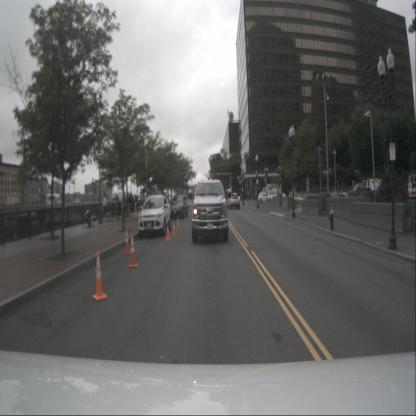human-pedestrian-adult: (115, 194, 121, 222), (102, 193, 108, 221), (122, 192, 127, 218), (129, 192, 134, 213), (134, 194, 138, 214)
movable_object-trafficcone: (92, 250, 108, 301), (128, 234, 138, 268), (124, 227, 131, 255), (166, 224, 171, 240), (172, 221, 176, 235), (176, 217, 180, 229)
vehicle-car: (192, 180, 228, 242), (138, 194, 172, 238), (170, 195, 188, 218), (227, 192, 240, 210), (258, 193, 272, 202)
vehicle-truck: (339, 182, 384, 209), (400, 172, 416, 204)
